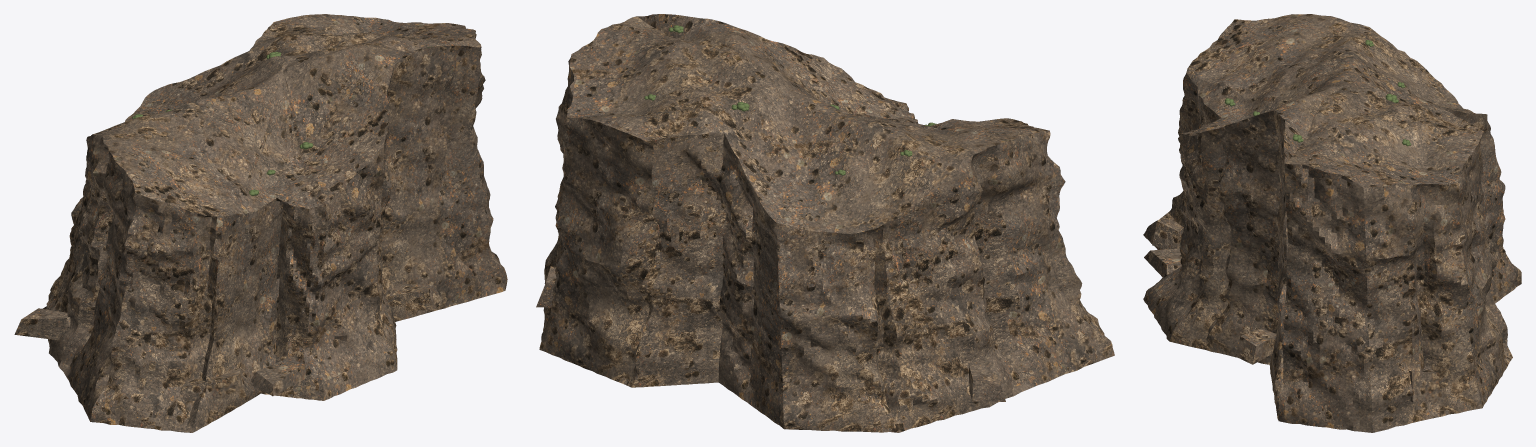
The model's file is Solstice_CoastalCliff_C.fbx.
3 renders of one model, left to right at view 1: azimuth 30°, elevation 25°; view 2: azimuth 150°, elevation 25°; view 3: azimuth 270°, elevation 25°, orthographic. The views are drawn at different scales.
Parts seen in each view (by area): view 1: Solstice_CoastalCliff_C; view 2: Solstice_CoastalCliff_C; view 3: Solstice_CoastalCliff_C.
Part boxes in pixels (x1,y1,x2,y2): Solstice_CoastalCliff_C: (14, 14, 507, 432); Solstice_CoastalCliff_C: (536, 14, 1114, 432); Solstice_CoastalCliff_C: (1143, 14, 1521, 432).
Size of the model in its own units: 88.13 by 46.91 by 61.26.
2 materials, 1 textured.
